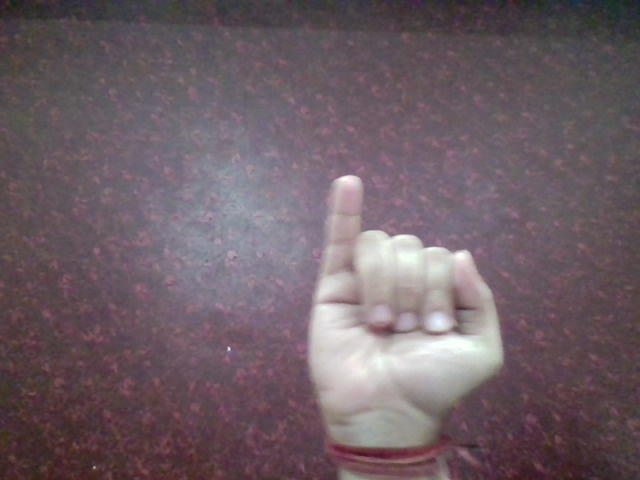i: (300, 165, 528, 437)
